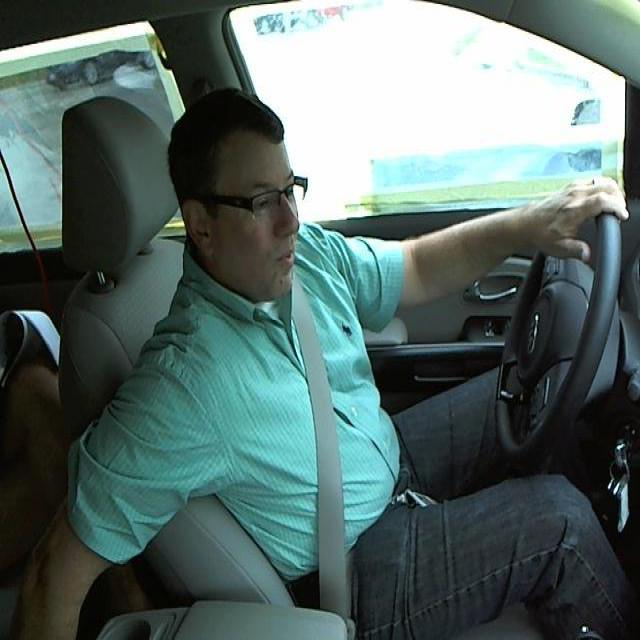seatbelt: (281, 296, 366, 611)
